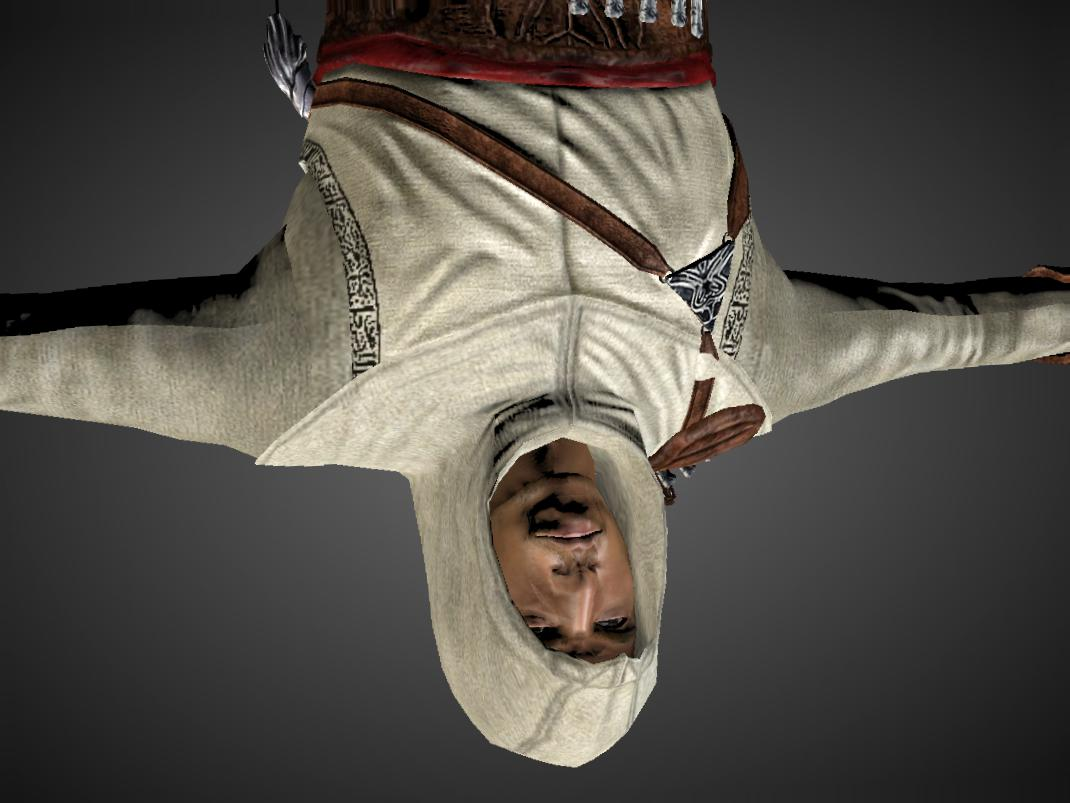clip: (694, 343, 725, 388)
